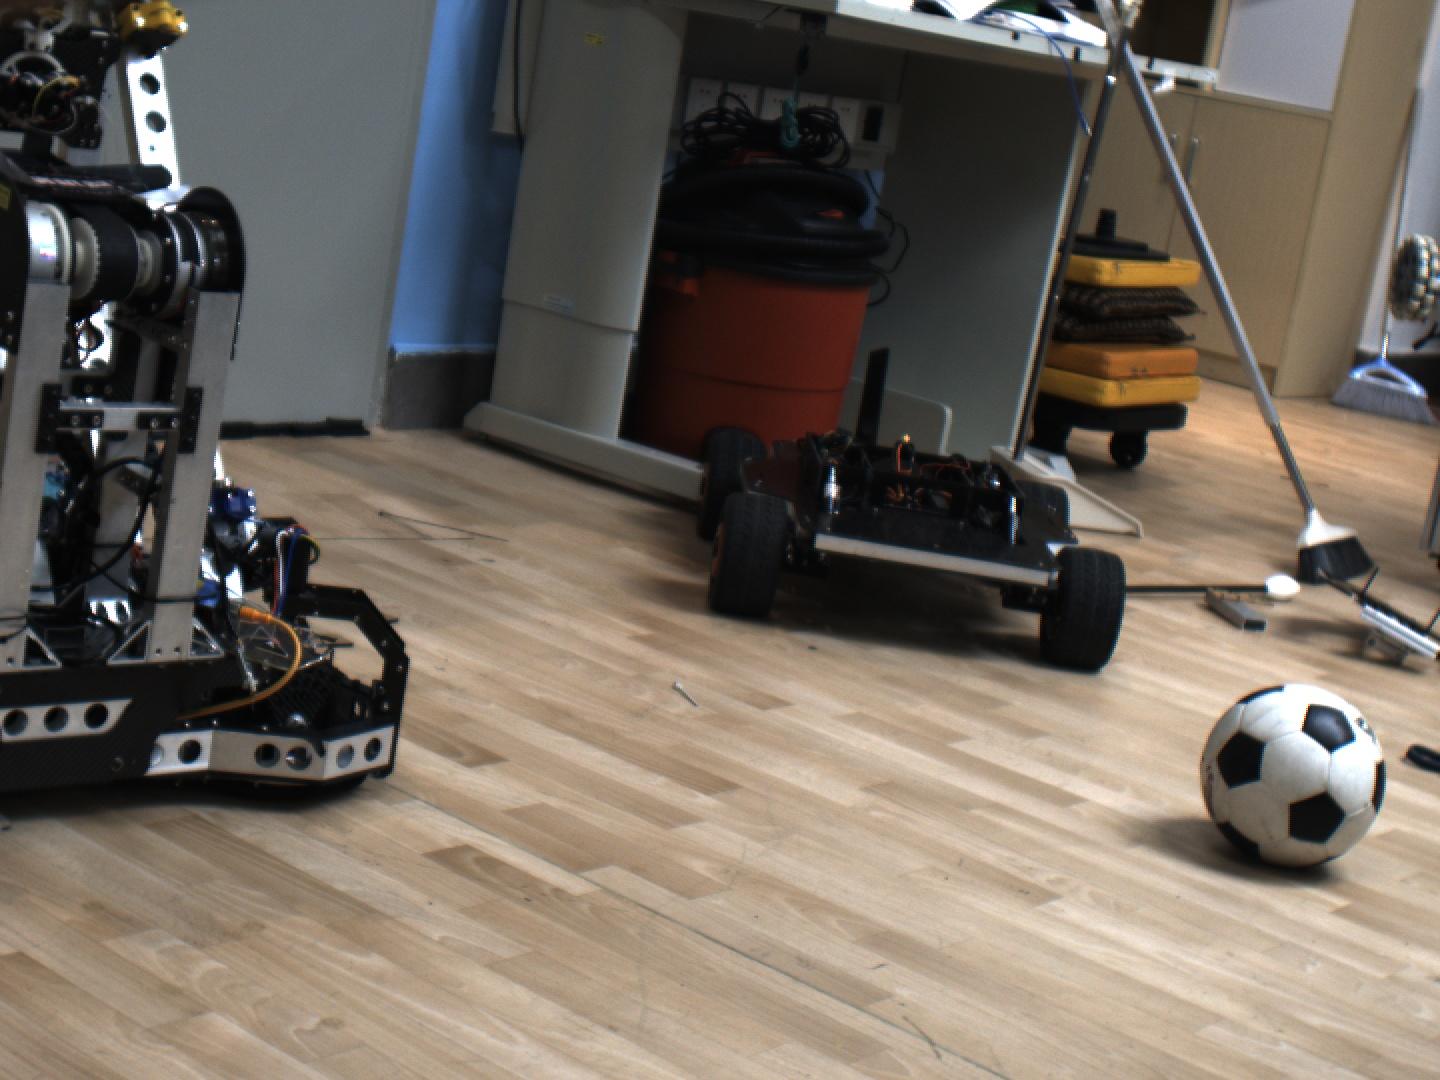ball: (1179, 656, 1413, 896)
